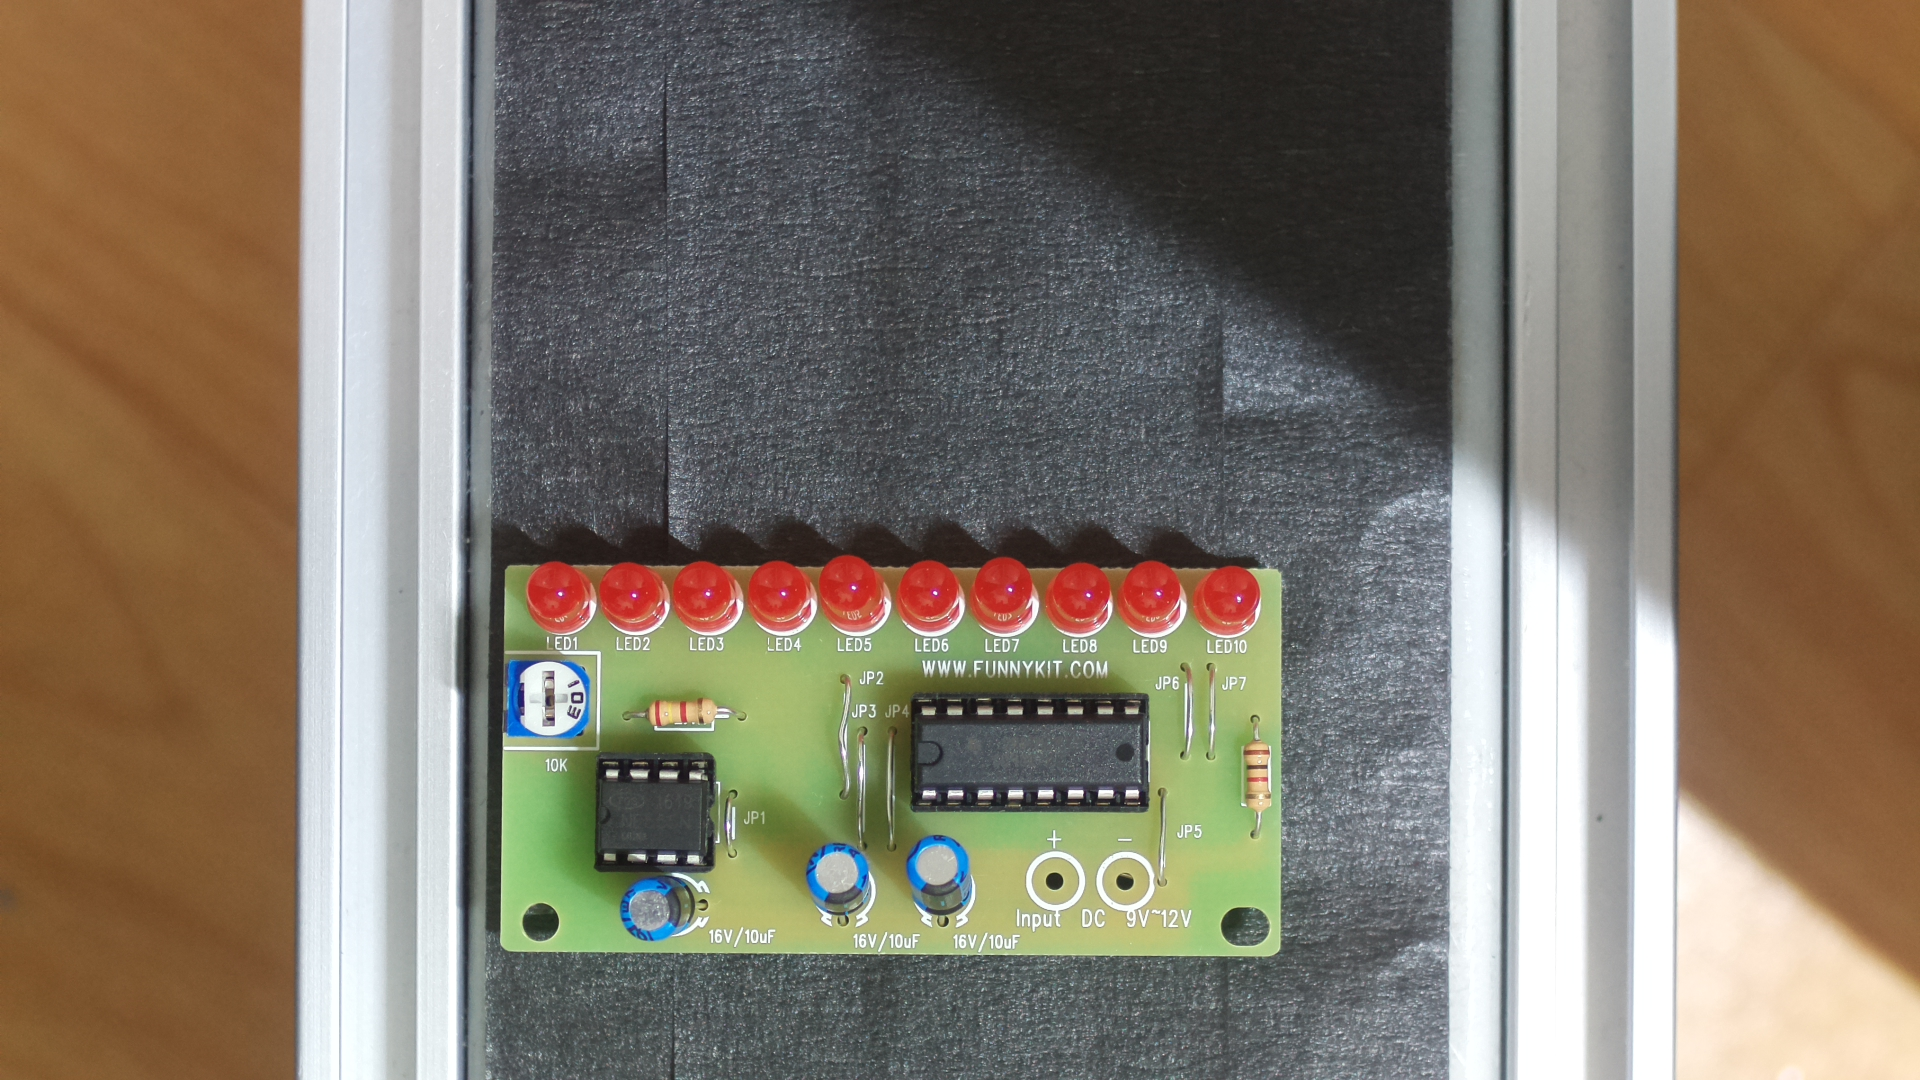B_Normal: (497, 537, 1299, 985)
